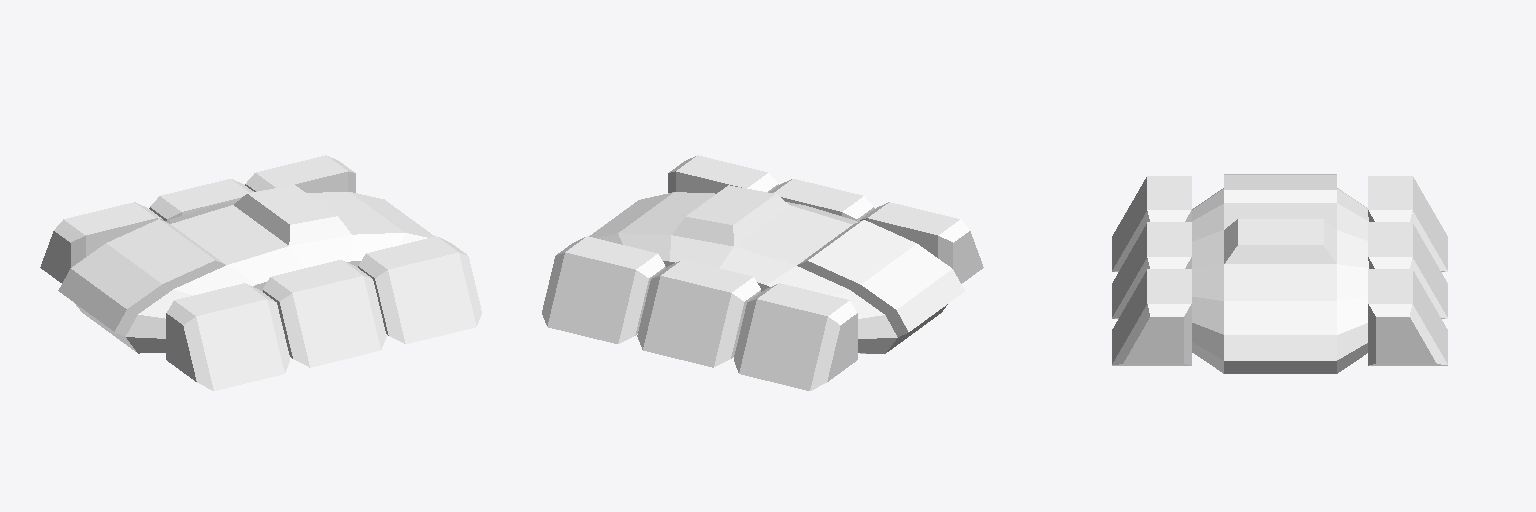
3 renders of one model, left to right at view 1: azimuth 30°, elevation 25°; view 2: azimuth 150°, elevation 25°; view 3: azimuth 270°, elevation 25°, orthographic.
Parts seen in each view (by area): view 1: cube1, cube1_sep14, cube1_sep13, cube1_sep18, cube1_sep17, cube1_sep15, cube1_sep16; view 2: cube1, cube1_sep17, cube1_sep16, cube1_sep15, cube1_sep14, cube1_sep18, cube1_sep13; view 3: cube1, cube1_sep18, cube1_sep15, cube1_sep13, cube1_sep16, cube1_sep14, cube1_sep17.
Part boxes in pixels (bbox=[...]): cube1: bbox=[58, 185, 434, 353]; cube1_sep14: bbox=[166, 283, 289, 390]; cube1_sep13: bbox=[263, 260, 386, 367]; cube1_sep18: bbox=[358, 236, 481, 343]; cube1_sep17: bbox=[40, 202, 163, 282]; cube1_sep15: bbox=[245, 155, 355, 192]; cube1_sep16: bbox=[149, 179, 253, 220]; cube1: bbox=[589, 185, 964, 353]; cube1_sep17: bbox=[734, 283, 857, 390]; cube1_sep16: bbox=[637, 260, 760, 367]; cube1_sep15: bbox=[542, 236, 665, 343]; cube1_sep14: bbox=[860, 202, 983, 283]; cube1_sep18: bbox=[668, 155, 778, 193]; cube1_sep13: bbox=[769, 179, 874, 221]; cube1: bbox=[1192, 174, 1368, 373]; cube1_sep18: bbox=[1112, 269, 1191, 365]; cube1_sep15: bbox=[1368, 269, 1447, 365]; cube1_sep13: bbox=[1112, 222, 1191, 318]; cube1_sep16: bbox=[1368, 222, 1447, 318]; cube1_sep14: bbox=[1112, 176, 1191, 271]; cube1_sep17: bbox=[1368, 176, 1447, 271].
Size of the model in its own units: 6.95 by 1.7 by 5.98.